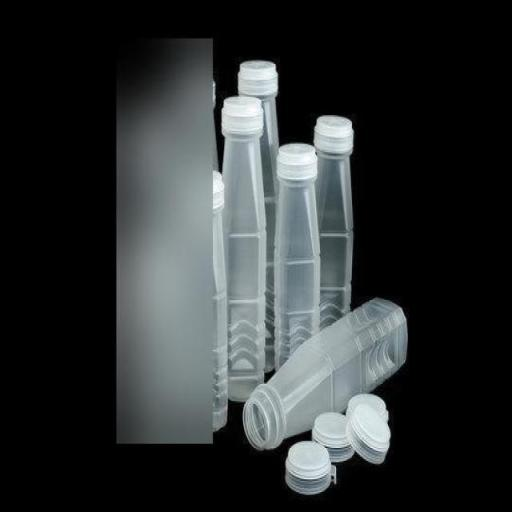plastic: (240, 293, 411, 457), (220, 80, 272, 401), (272, 142, 324, 370), (310, 112, 357, 328)
